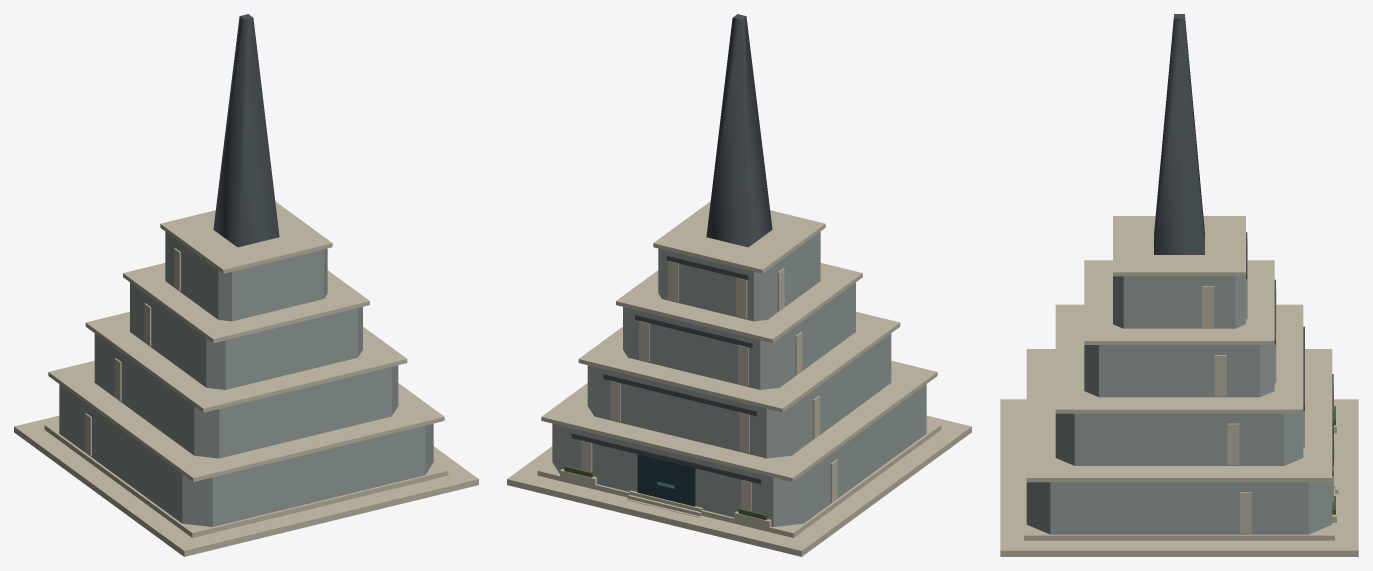
The model's file is wonder.glb.
3 renders of one model, left to right at view 1: azimuth 30°, elevation 25°; view 2: azimuth 150°, elevation 25°; view 3: azimuth 270°, elevation 25°, orthographic. The views are drawn at different scales.
Parts seen in each view (by area): view 1: monument-terraces, terrace-cornices, foundation, crown, plinth, monument-pilasters; view 2: monument-terraces, terrace-cornices, foundation, crown, monument-pilasters, monument-friezes, plinth, monument-portal, entrance-stair; view 3: monument-terraces, terrace-cornices, foundation, crown, plinth, monument-pilasters, monument-friezes.
Part boxes in pixels (x1,y1,x2,y2): monument-terraces: (59,231,433,526); terrace-cornices: (48,201,444,481); foundation: (14,415,478,556); crown: (213,14,279,247); plinth: (44,422,448,537); monument-pilasters: (85,248,180,456); monument-terraces: (552,231,926,526); terrace-cornices: (541,201,937,481); foundation: (507,415,971,556); crown: (706,14,772,247); monument-pilasters: (581,261,837,510); monument-friezes: (571,255,761,484); plinth: (537,422,941,537); monument-portal: (637,454,695,506); entrance-stair: (627,490,702,517); monument-terraces: (1026,276,1332,534); terrace-cornices: (1026,216,1332,482); foundation: (1000,399,1358,556); crown: (1154,14,1204,254); plinth: (1024,404,1334,540); monument-pilasters: (1202,238,1333,533); monument-friezes: (1246,232,1333,476).
Bounding box in the file's own units: 15.52 × 22.24 × 15.52.
